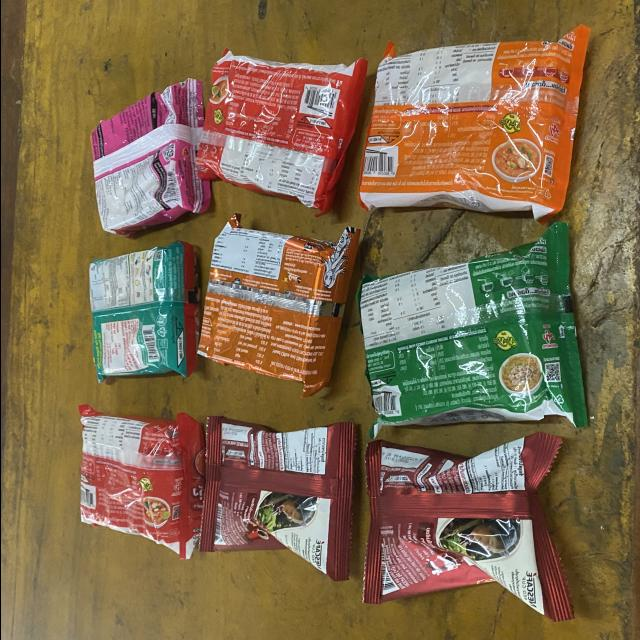plastik: (356, 223, 586, 437), (358, 25, 589, 221), (363, 433, 572, 622), (200, 214, 358, 397), (196, 52, 367, 214), (198, 416, 354, 580), (78, 405, 204, 558), (89, 78, 209, 237), (89, 242, 197, 382)
